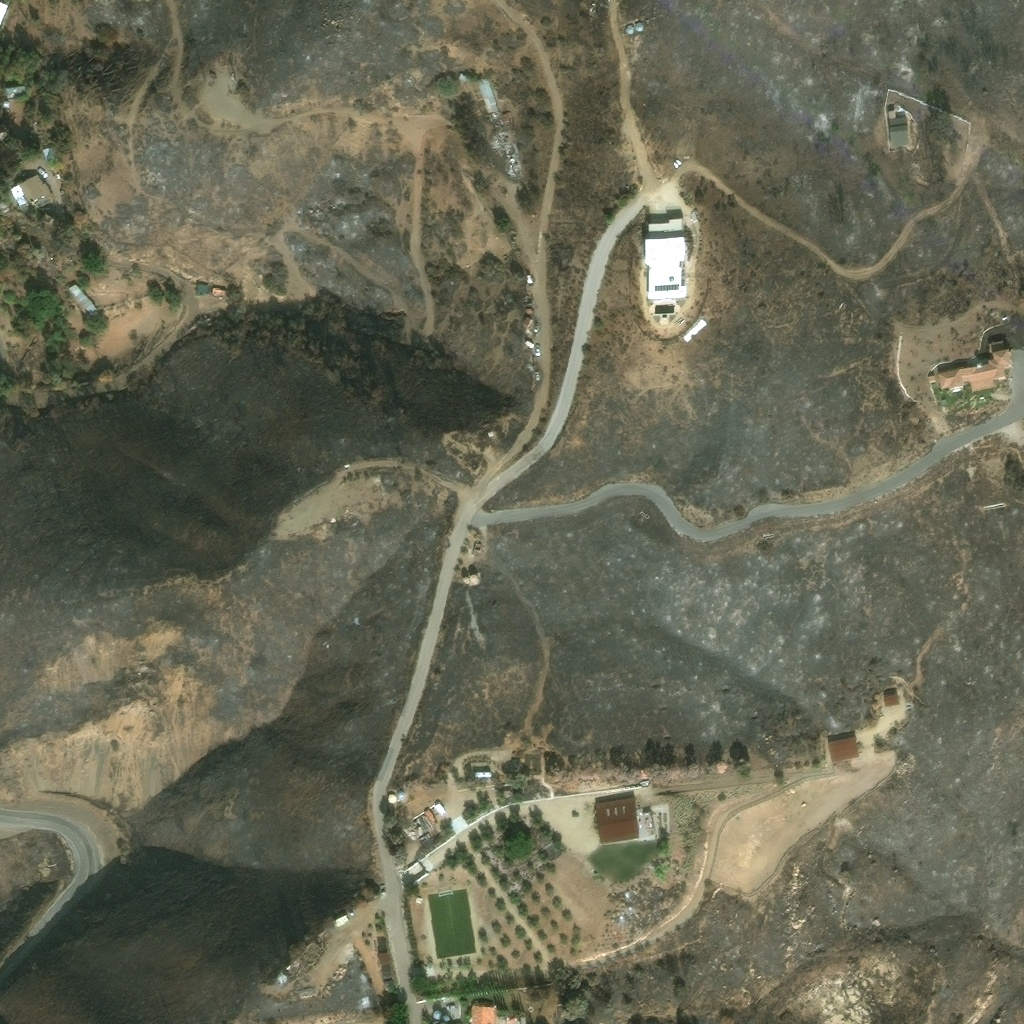0 no-damage: (936, 340, 1014, 395), (643, 219, 685, 303), (593, 797, 640, 846), (68, 283, 97, 316), (828, 737, 858, 764), (887, 113, 908, 147), (681, 320, 707, 345), (469, 1004, 496, 1023), (377, 938, 389, 967), (3, 82, 26, 97), (333, 915, 350, 930), (884, 695, 898, 708), (461, 576, 478, 586), (211, 286, 226, 296), (382, 980, 393, 991), (196, 282, 207, 292), (432, 1011, 442, 1021), (386, 794, 396, 804), (523, 341, 534, 349), (524, 275, 532, 284), (524, 315, 531, 325), (441, 1015, 449, 1023), (396, 791, 403, 799), (887, 112, 895, 119), (2, 100, 9, 106), (526, 309, 533, 314)
1 minor-damage: (9, 174, 52, 211), (476, 78, 499, 115), (624, 23, 644, 36), (42, 145, 57, 162), (458, 73, 465, 80)
2 major-damage: (524, 296, 533, 305)
3 destroyed: (403, 809, 437, 841), (488, 123, 514, 151), (432, 802, 445, 817)
4 un-classified: (208, 298, 230, 307)
